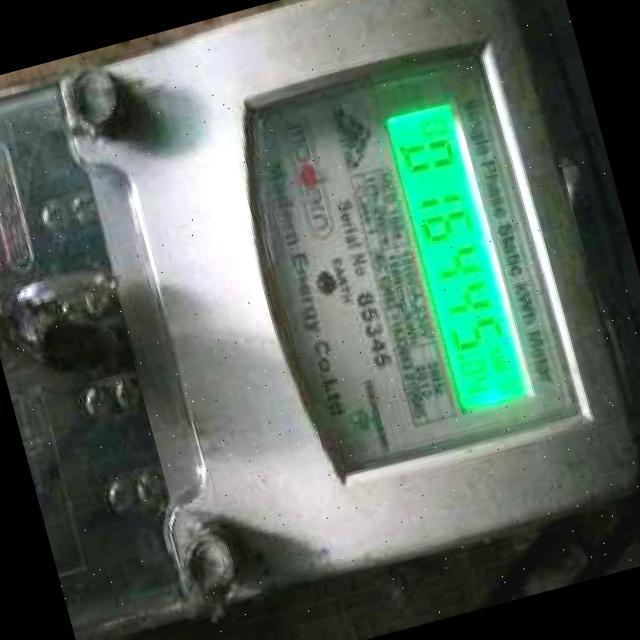LCD: (370, 88, 540, 426)
